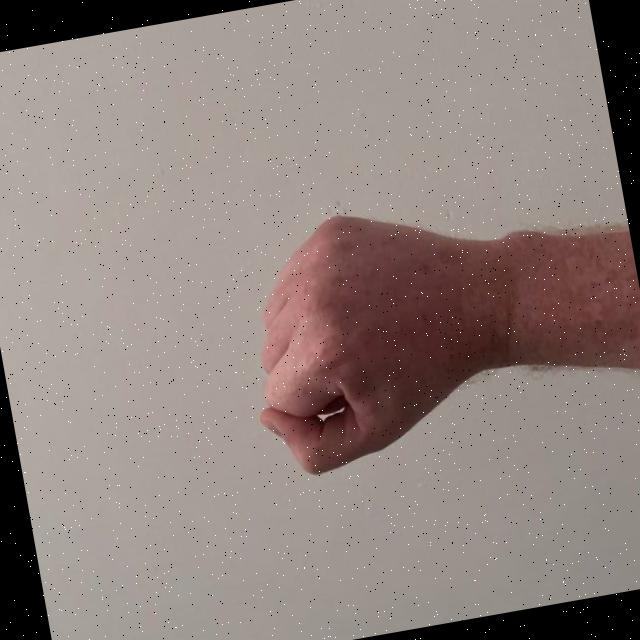rock: (222, 183, 534, 486)
